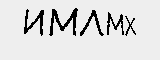И: (22, 5, 44, 37)
Л: (78, 9, 103, 38)
М: (49, 6, 78, 36), (105, 12, 126, 36)
Х: (124, 15, 136, 37)
